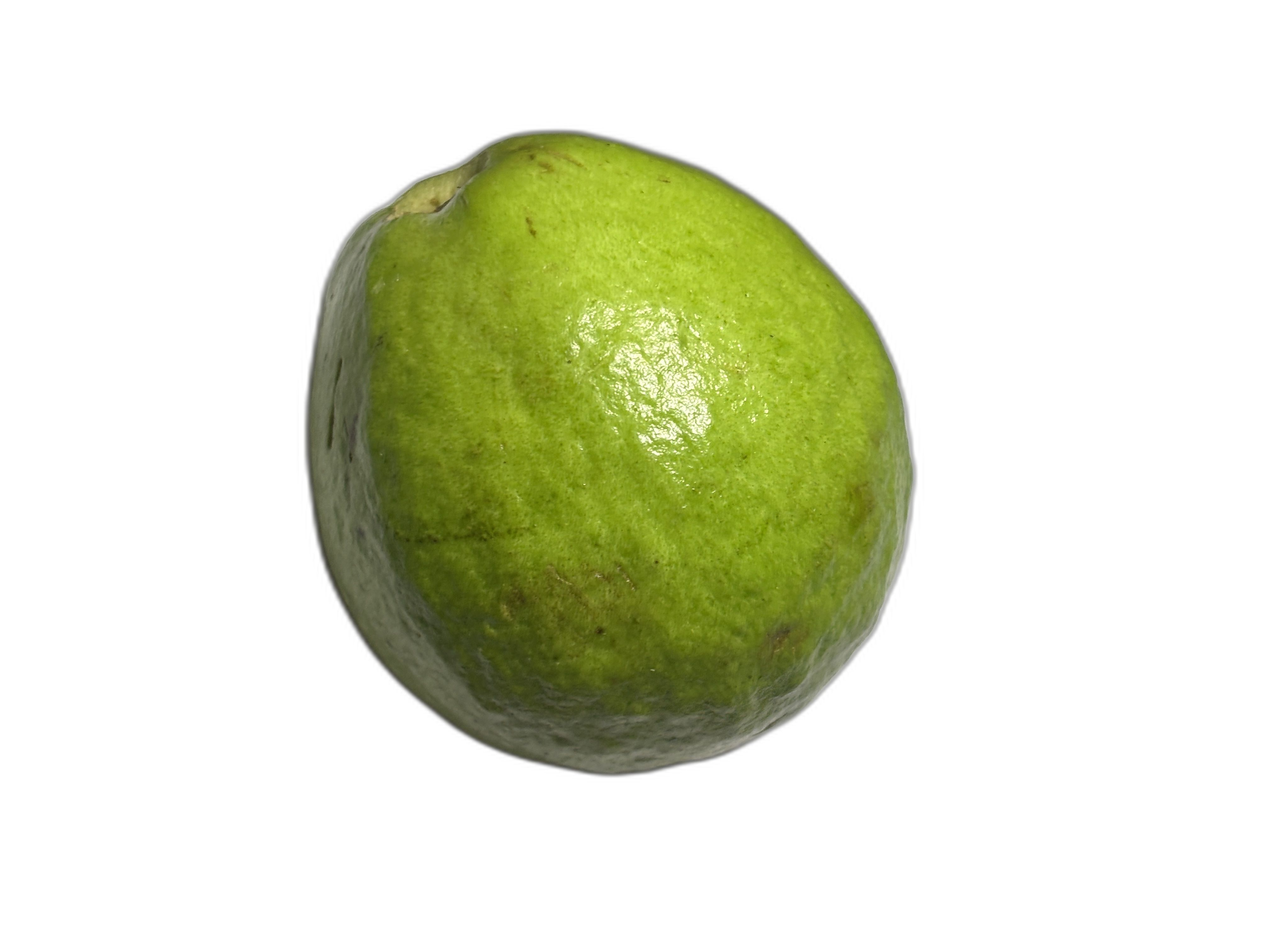guava: (163, 15, 1172, 748)
